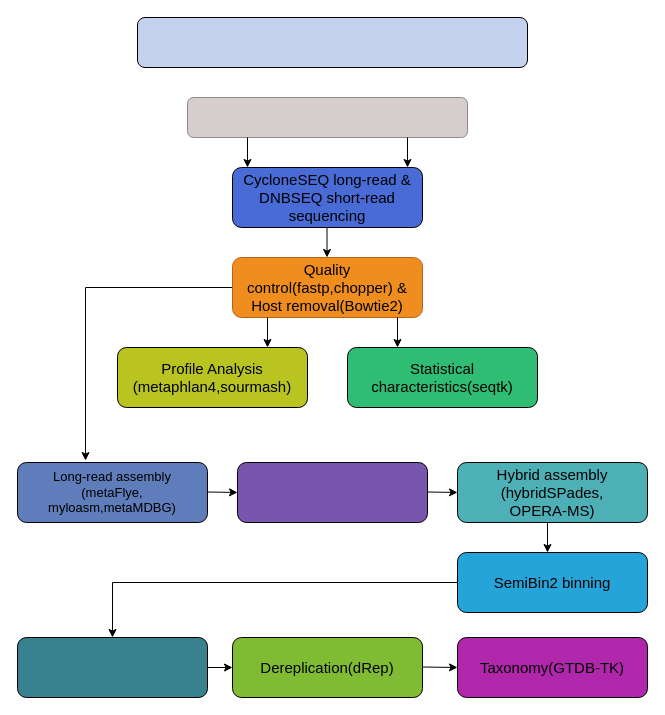
Image size: 665x715. Some labels were removed from this diagram. The shapes that lost their labels are listed below. From the top down, each one's centre as x and y in pixels, then its label:
At point (332, 42): "CycloneSEQ gut metagenome behchmarking workflow".
At point (327, 117): "DNA extraction Library preparation".
At point (332, 492): "Long-read assmebly+ short-read polishing (metaFlye,myloasm,metaMDBG)".
At point (112, 667): "Quality assesment(CheckM2)".
